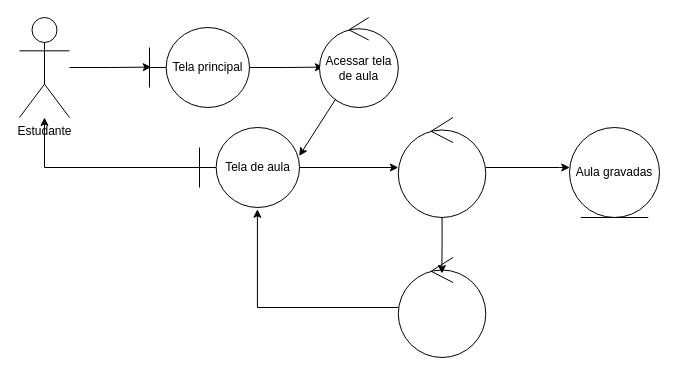
Image size: 677x375. Some labels were removed from this diagram. The shapes that lost their labels are listed below. From the top down, each one's centre as x and y in pixels, then its label:
At [441,167]: "selecionar aula".
At [441,307]: "Abrir player de video na tela de aula".
